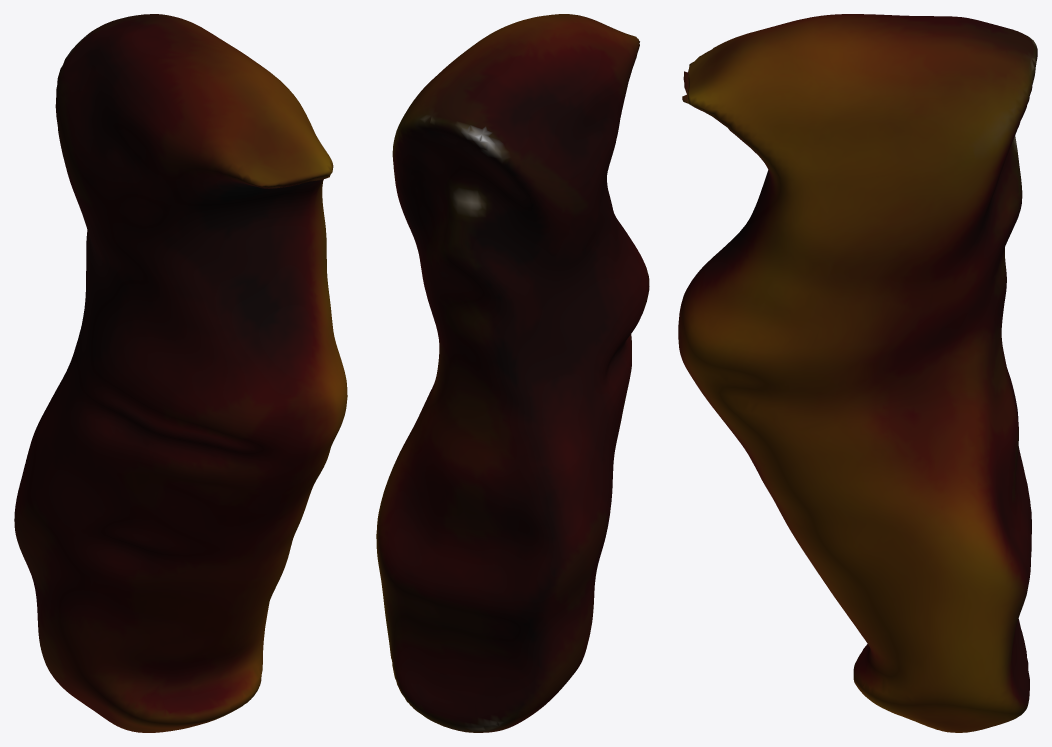
Rendered from shoe3.glb.
The picture shows the model from 3 angles, left to right: view 1: azimuth 30°, elevation 25°; view 2: azimuth 150°, elevation 25°; view 3: azimuth 270°, elevation 25°; orthographic projection. The views are drawn at different scales.
Size of the model in its own units: 0.3385 by 0.9994 by 0.463.
